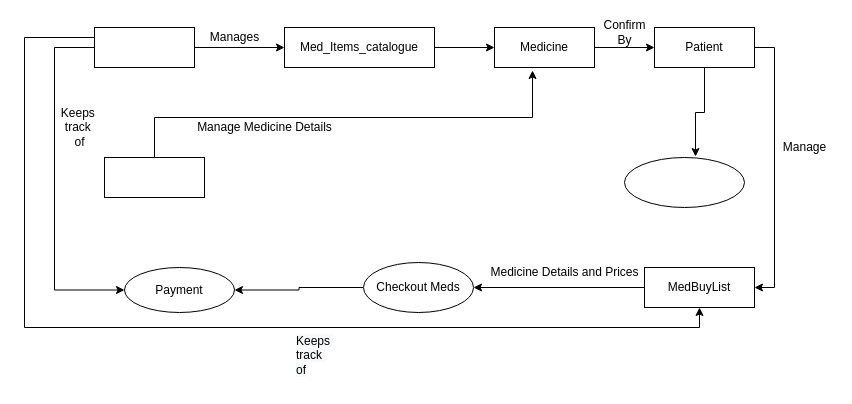
Some shapes in this 852 by 404 pixel diagram are drawn without their labels. The centre of each missing label's shape, as x and y in pixels:
Add Medicine to MedBuyList: the point at 684,182
Administrator: the point at 144,47
Pharmacy: the point at 154,177
